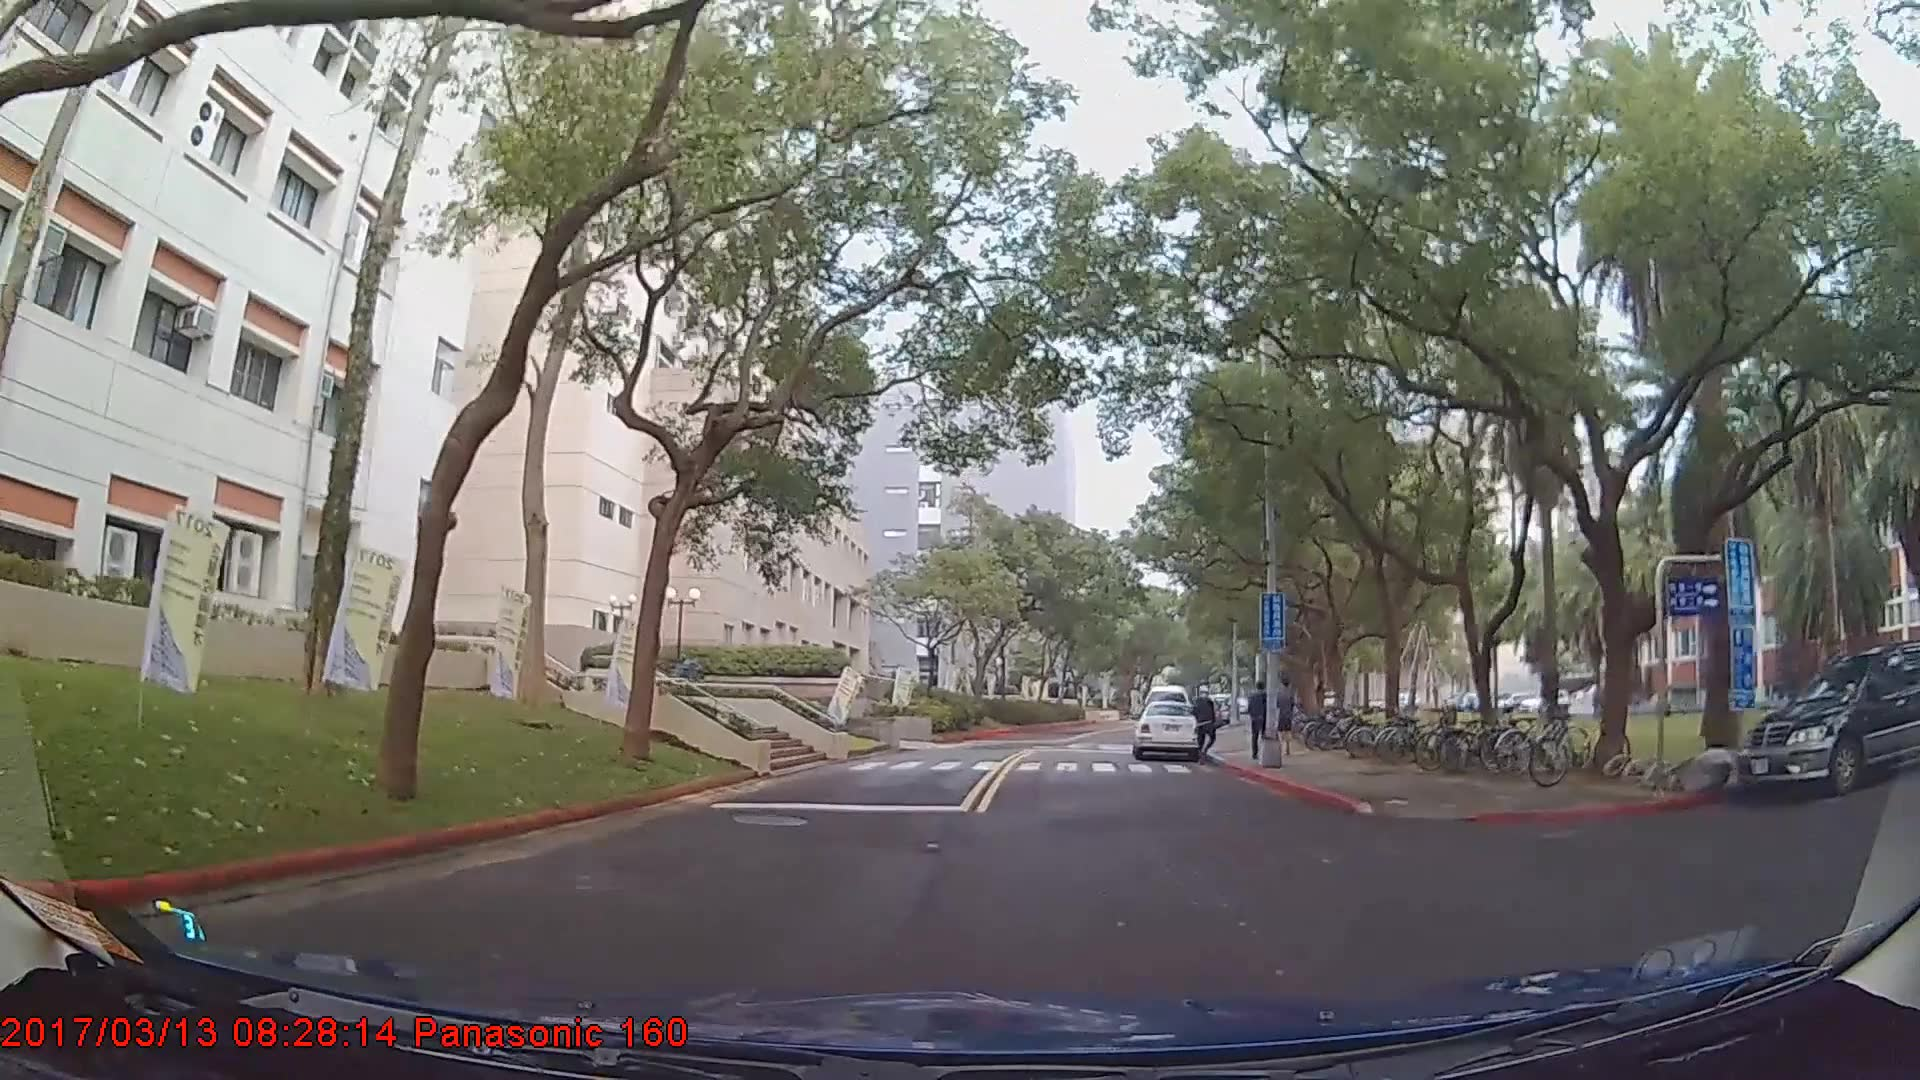pedestrian: (1247, 684, 1275, 758), (1192, 686, 1217, 761)
vehicle: (1740, 642, 1920, 796), (1131, 700, 1204, 763)
